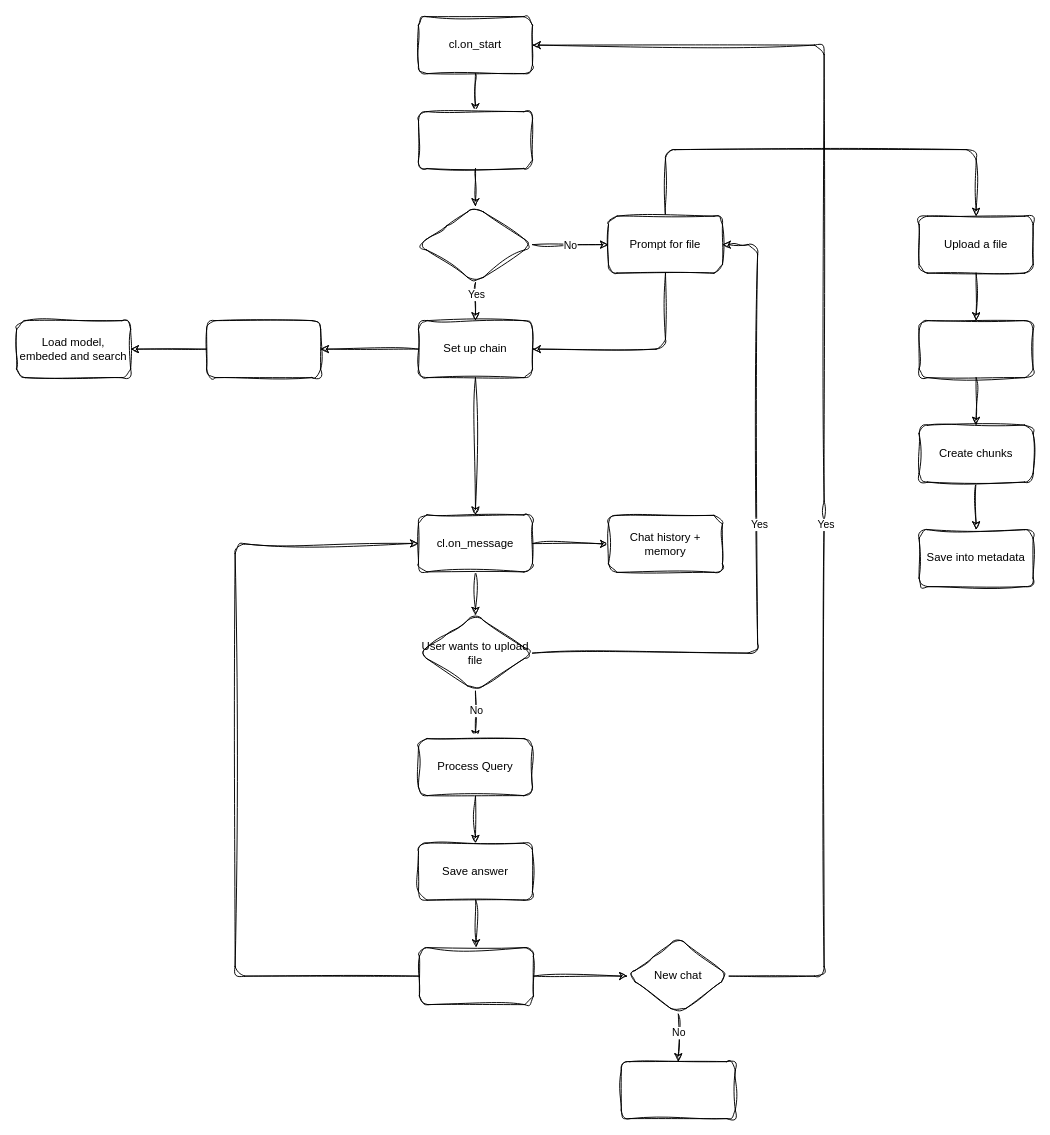
The diagram is 1050 pixels wide and 1135 high, and some of its shapes have lost their labels. The shapes that lost their labels are listed below. From the top down, each one's centre as x and y in pixels, then its label:
At pixel 475 140: "load markdown and metadata".
At pixel 475 244: "Search for file data".
At pixel 263 349: "Load metadata, load chunk files".
At pixel 975 349: "Extract text".
At pixel 475 976: "Output".
At pixel 677 1090: "cl.end_chat".
